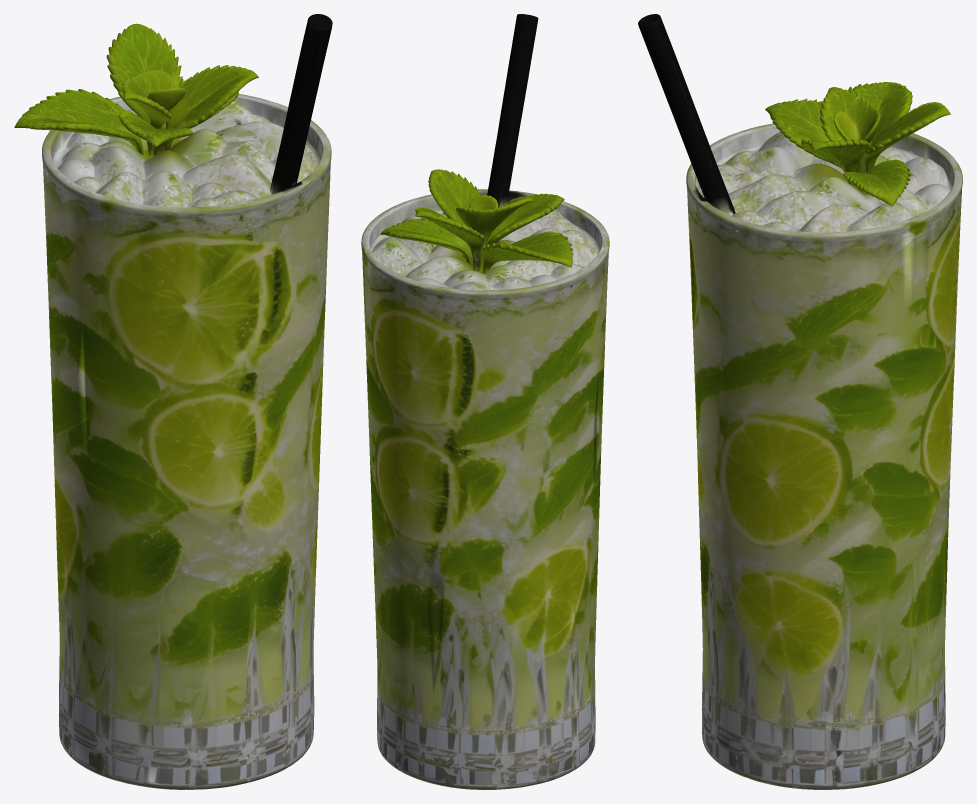
The model's file is viejoteca.glb.
The picture shows the model from 3 angles, left to right: view 1: azimuth 30°, elevation 25°; view 2: azimuth 150°, elevation 25°; view 3: azimuth 270°, elevation 25°; orthographic projection. The views are drawn at different scales.
Visible parts, largest first — view 1: material; view 2: material; view 3: material.
Part boxes in pixels (x1,y1,x2,y2): material: [14, 14, 332, 789]; material: [361, 14, 609, 789]; material: [638, 14, 962, 789].
Size of the model in its own units: 0.3957 by 1.12 by 0.444.
Materials: 1 (1 with a texture image).
